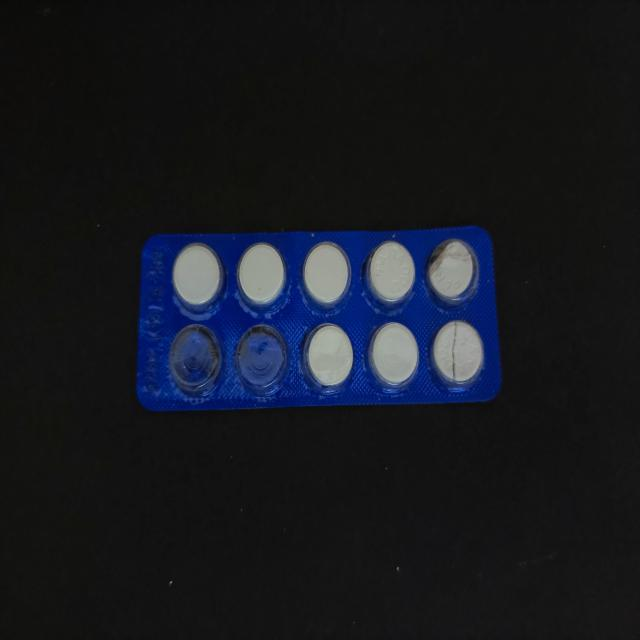defect: (233, 322, 291, 399), (167, 322, 224, 400), (424, 236, 481, 311), (429, 318, 486, 392)
